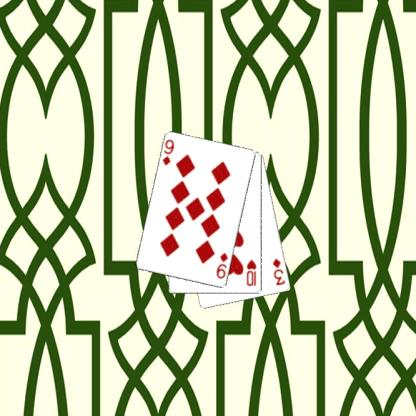10H: (244, 258, 258, 288)
3D: (270, 256, 286, 286)
9D: (214, 250, 229, 280), (160, 137, 175, 167)
